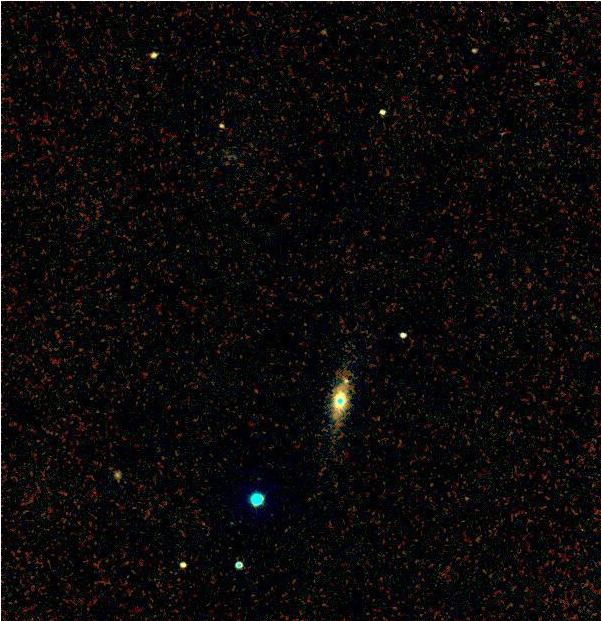star: (328, 365, 358, 395)
